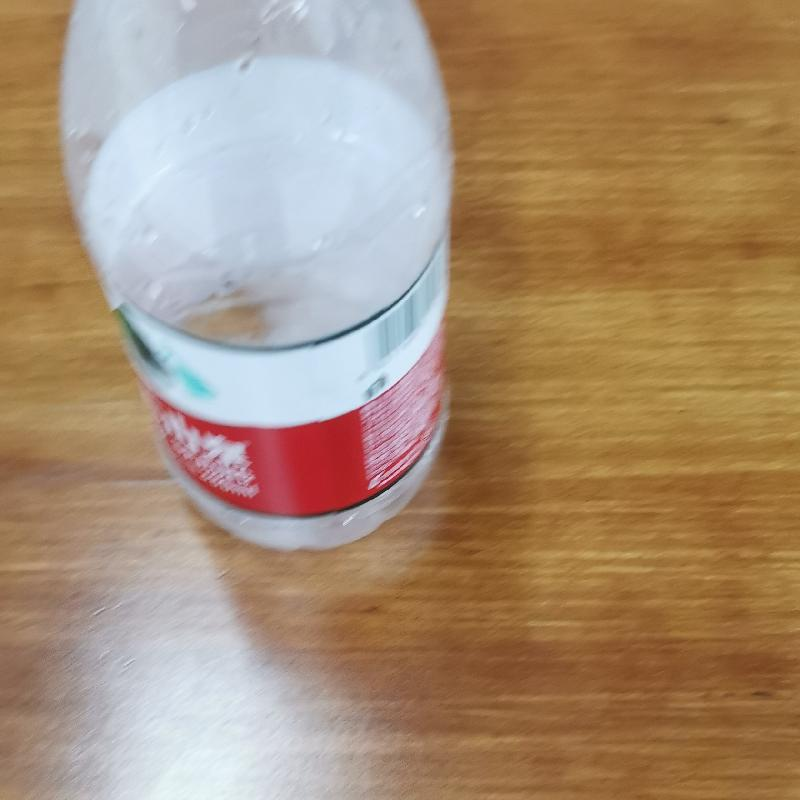bottles: (62, 1, 458, 559)
